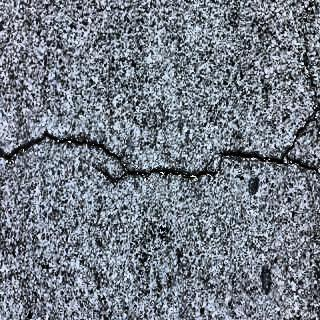alligator-crack: (2, 118, 320, 186)
